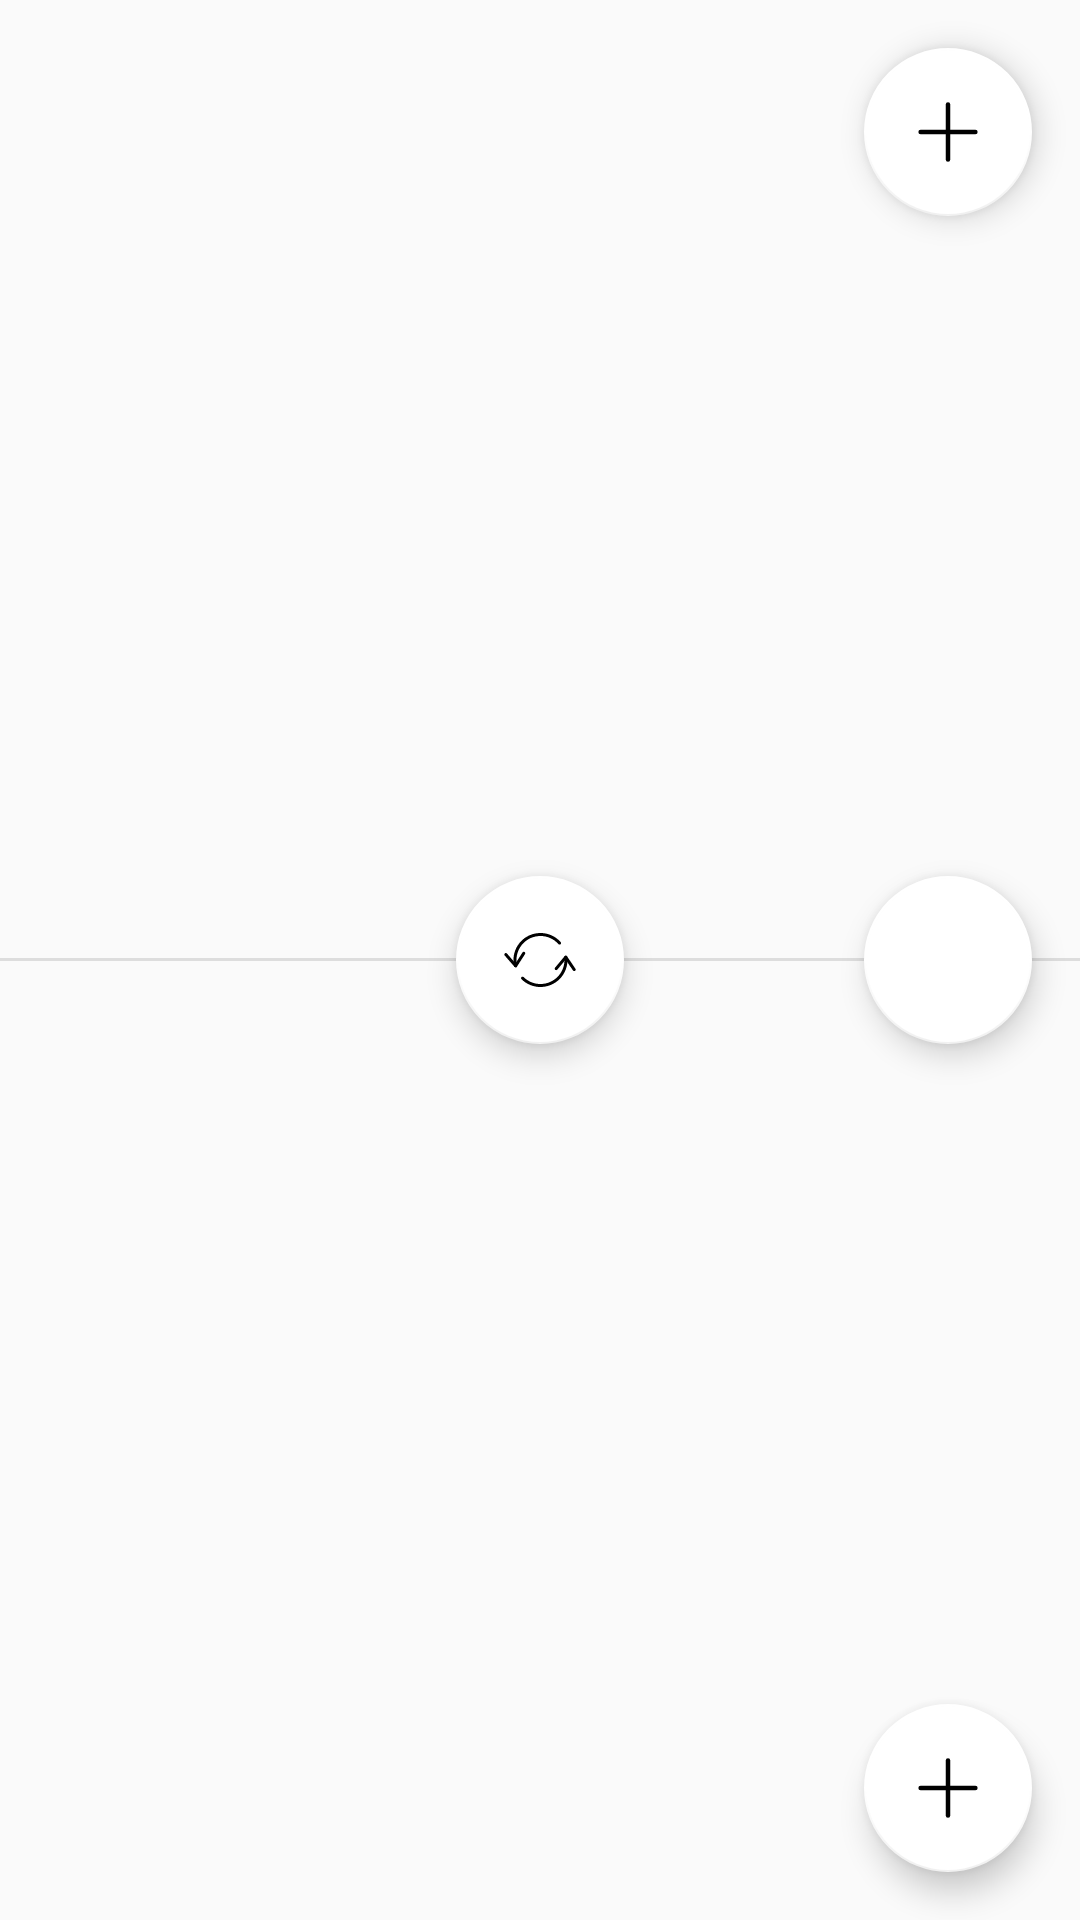

Named icons in this screenshot (1080*1920) and their bounding boxes, (x1, y1, x2, y2):
add: (864, 48, 1032, 216), (870, 1758, 1032, 1872)
